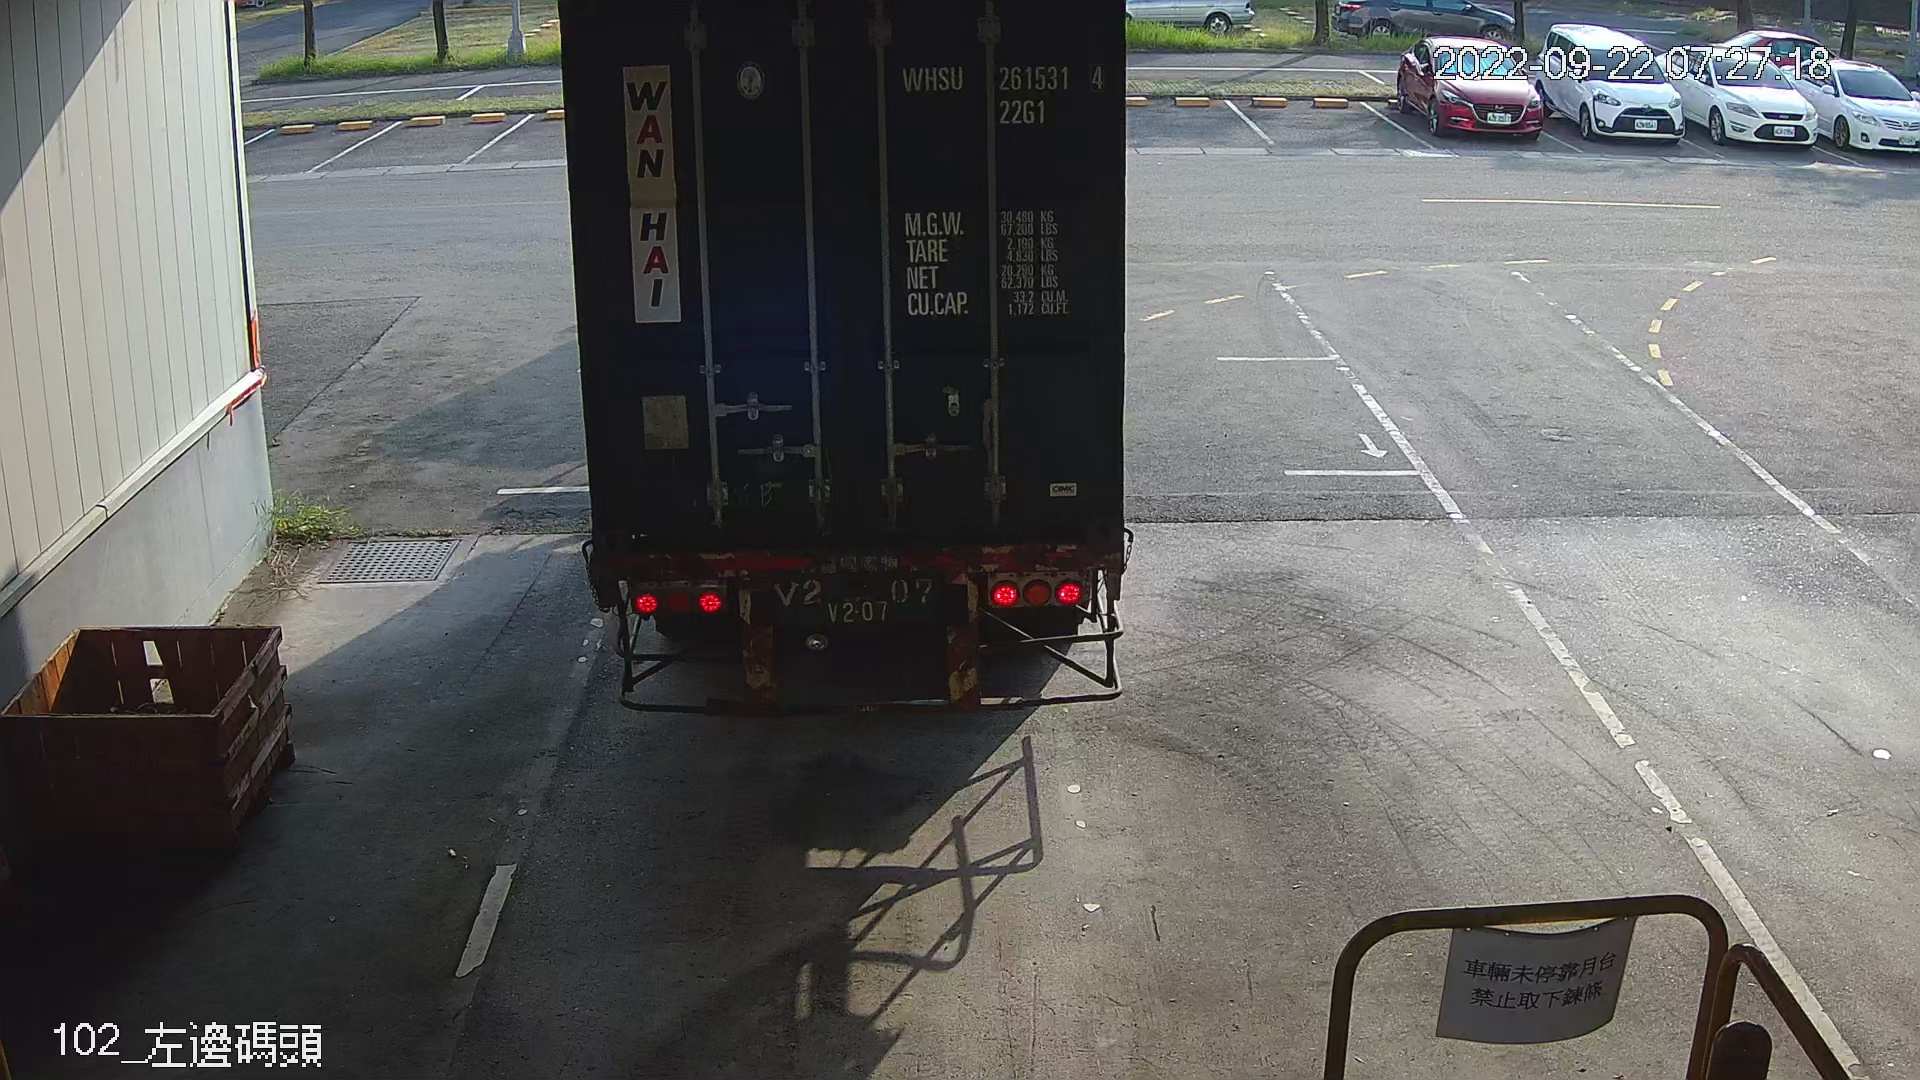container: (894, 51, 1117, 131)
